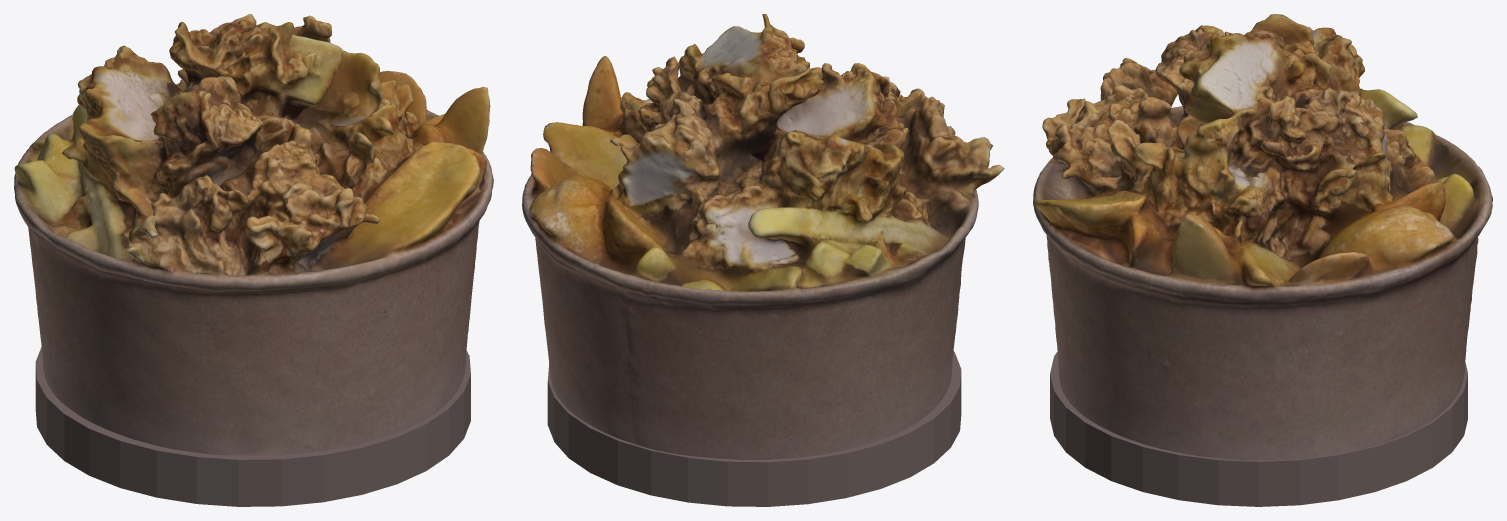
File: mix.strip.02.glb
3 views of the same model, side by side, from view 1: azimuth 30°, elevation 25°; view 2: azimuth 150°, elevation 25°; view 3: azimuth 270°, elevation 25° (orthographic). The views are drawn at different scales.
Visible parts, largest first — view 1: 3DModel, Cylinder; view 2: 3DModel, Cylinder; view 3: 3DModel, Cylinder.
Part boxes in pixels (x1=…): 3DModel: x1=14, y1=14, x2=493, y2=455; Cylinder: x1=35, y1=347, x2=470, y2=506; 3DModel: x1=522, y1=14, x2=1004, y2=459; Cylinder: x1=547, y1=351, x2=961, y2=506; 3DModel: x1=1033, y1=14, x2=1492, y2=460; Cylinder: x1=1050, y1=352, x2=1467, y2=506.
Bounding box in the file's own units: 0.2238 × 0.2041 × 0.2185.
2 materials, 1 textured.
